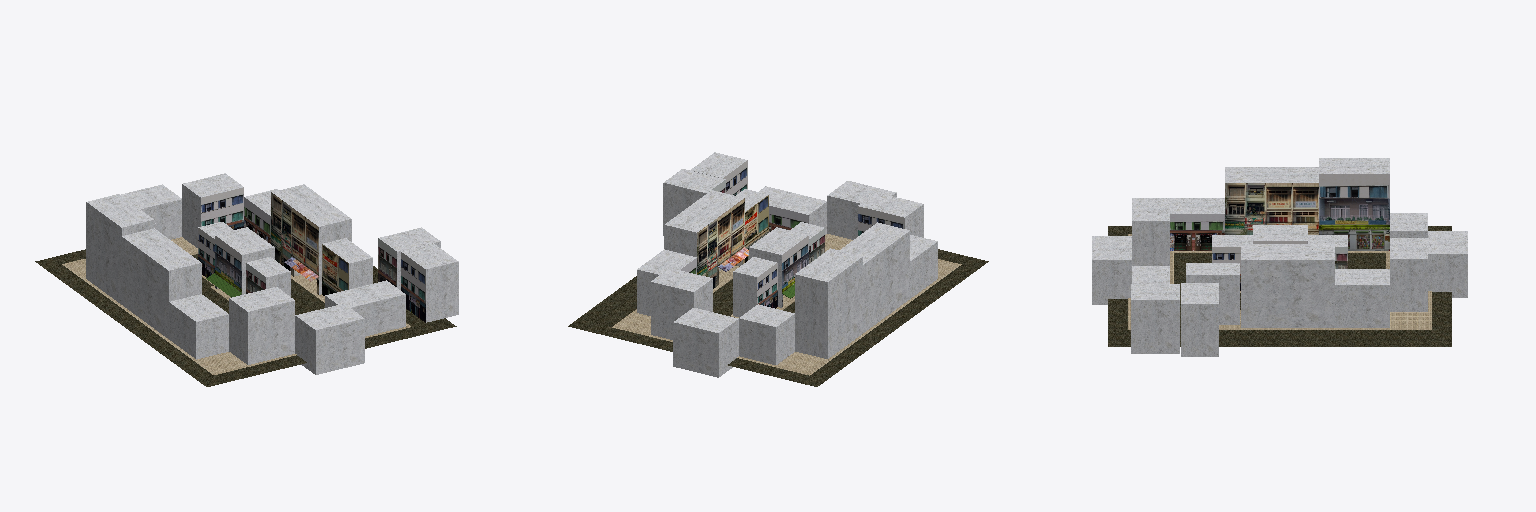
3 views of the same model, side by side, from view 1: azimuth 30°, elevation 25°; view 2: azimuth 150°, elevation 25°; view 3: azimuth 270°, elevation 25° (orthographic).
Parts seen in each view (by area): view 1: buildingsWest_ENVO_asiancity.007, buildingsSouth_ENVO_asiancity.003, buildingsEast_ENVO_asiancity.005, road_ENVO_asiancity.002, buildingsBack_ENVO_asiancity.004, buildingsNorth_ENVO_asiancity.006, buildingsCenter_ENVO_asiancity.001; view 2: buildingsWest_ENVO_asiancity.007, buildingsNorth_ENVO_asiancity.006, buildingsEast_ENVO_asiancity.005, road_ENVO_asiancity.002, buildingsSouth_ENVO_asiancity.003, buildingsCenter_ENVO_asiancity.001, buildingsBack_ENVO_asiancity.004; view 3: buildingsWest_ENVO_asiancity.007, buildingsEast_ENVO_asiancity.005, road_ENVO_asiancity.002, buildingsNorth_ENVO_asiancity.006, buildingsBack_ENVO_asiancity.004, buildingsSouth_ENVO_asiancity.003, buildingsCenter_ENVO_asiancity.001.
Part boxes in pixels (left/top/right/bottom): buildingsWest_ENVO_asiancity.007: left=62, top=194, right=228, bottom=374; buildingsSouth_ENVO_asiancity.003: left=214, top=280, right=410, bottom=374; buildingsEast_ENVO_asiancity.005: left=244, top=184, right=372, bottom=302; road_ENVO_asiancity.002: left=35, top=249, right=456, bottom=386; buildingsBack_ENVO_asiancity.004: left=378, top=227, right=458, bottom=322; buildingsNorth_ENVO_asiancity.006: left=64, top=173, right=243, bottom=266; buildingsCenter_ENVO_asiancity.001: left=198, top=222, right=290, bottom=300; buildingsWest_ENVO_asiancity.007: left=795, top=222, right=960, bottom=374; buildingsNorth_ENVO_asiancity.006: left=612, top=268, right=809, bottom=377; buildingsEast_ENVO_asiancity.005: left=613, top=189, right=768, bottom=326; road_ENVO_asiancity.002: left=568, top=249, right=988, bottom=386; buildingsSouth_ENVO_asiancity.003: left=759, top=181, right=961, bottom=266; buildingsCenter_ENVO_asiancity.001: left=730, top=222, right=824, bottom=317; buildingsBack_ENVO_asiancity.004: left=663, top=152, right=747, bottom=235; buildingsWest_ENVO_asiancity.007: left=1131, top=158, right=1389, bottom=252; buildingsEast_ENVO_asiancity.005: left=1186, top=244, right=1429, bottom=329; road_ENVO_asiancity.002: left=1108, top=226, right=1451, bottom=346; buildingsNorth_ENVO_asiancity.006: left=1386, top=213, right=1467, bottom=329; buildingsBack_ENVO_asiancity.004: left=1131, top=283, right=1218, bottom=356; buildingsSouth_ENVO_asiancity.003: left=1092, top=198, right=1173, bottom=329; buildingsCenter_ENVO_asiancity.001: left=1212, top=225, right=1347, bottom=292.
Size of the model in its own units: 35.02 by 10.39 by 42.26.
Materials: 12 (12 with a texture image).